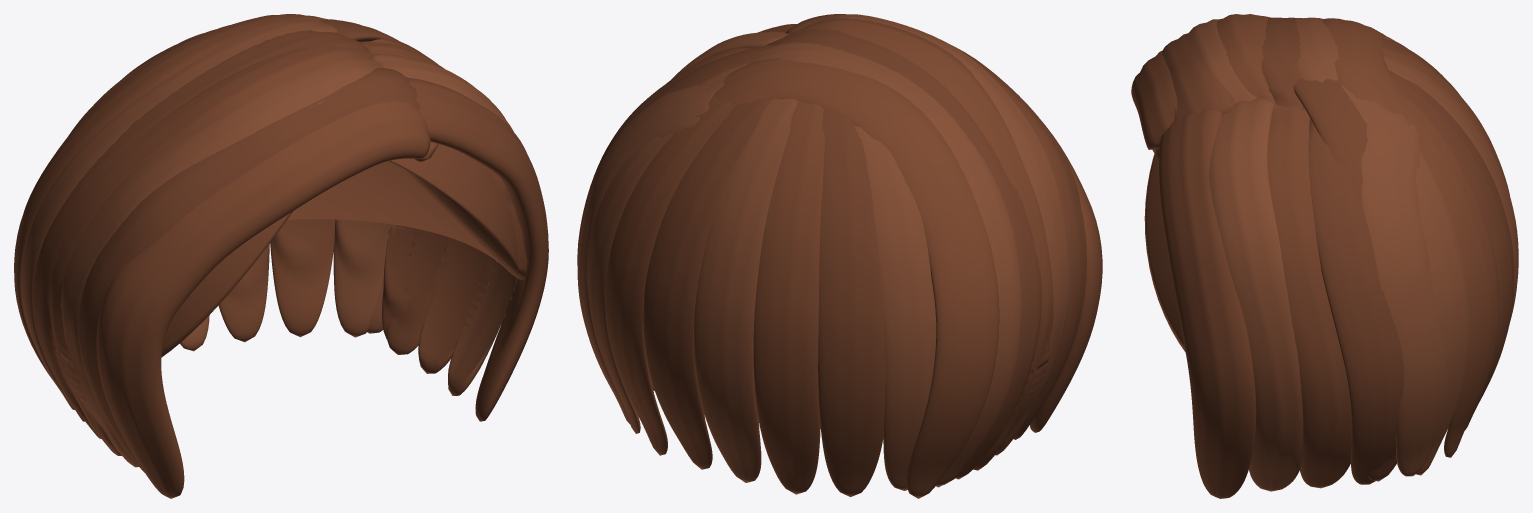
Rendered from Feminine-bob-open-pashmina250-hair.glb.
The picture shows the model from 3 angles, left to right: view 1: azimuth 30°, elevation 25°; view 2: azimuth 150°, elevation 25°; view 3: azimuth 270°, elevation 25°; orthographic projection. The views are drawn at different scales.
Visible parts, largest first — view 1: 226 hair / Hair / sculpted 0.001, 226 hair / Hair / sculpted 1.001, 226 hair / Hair / sculpted 2.001, 226 hair / Hair / sculpted 1.002; view 2: 226 hair / Hair / sculpted 0.001, 226 hair / Hair / sculpted 2.001, 226 hair / Hair / sculpted 1.001; view 3: 226 hair / Hair / sculpted 1.001, 226 hair / Hair / sculpted 2.001, 226 hair / Hair / sculpted 0.001, 226 hair / Hair / sculpted 1.002.
Part boxes in pixels (box(x1,y1,x2,y2)): 226 hair / Hair / sculpted 0.001: box(14, 14, 496, 498); 226 hair / Hair / sculpted 1.001: box(32, 20, 548, 472); 226 hair / Hair / sculpted 2.001: box(21, 18, 517, 467); 226 hair / Hair / sculpted 1.002: box(53, 144, 526, 366); 226 hair / Hair / sculpted 0.001: box(605, 18, 1102, 498); 226 hair / Hair / sculpted 2.001: box(577, 14, 1070, 490); 226 hair / Hair / sculpted 1.001: box(577, 14, 1086, 496); 226 hair / Hair / sculpted 1.001: box(1159, 17, 1514, 498); 226 hair / Hair / sculpted 2.001: box(1183, 17, 1518, 491); 226 hair / Hair / sculpted 0.001: box(1131, 14, 1509, 488); 226 hair / Hair / sculpted 1.002: box(1144, 106, 1302, 352).
Size of the model in its own units: 1 by 0.8416 by 0.7666.
